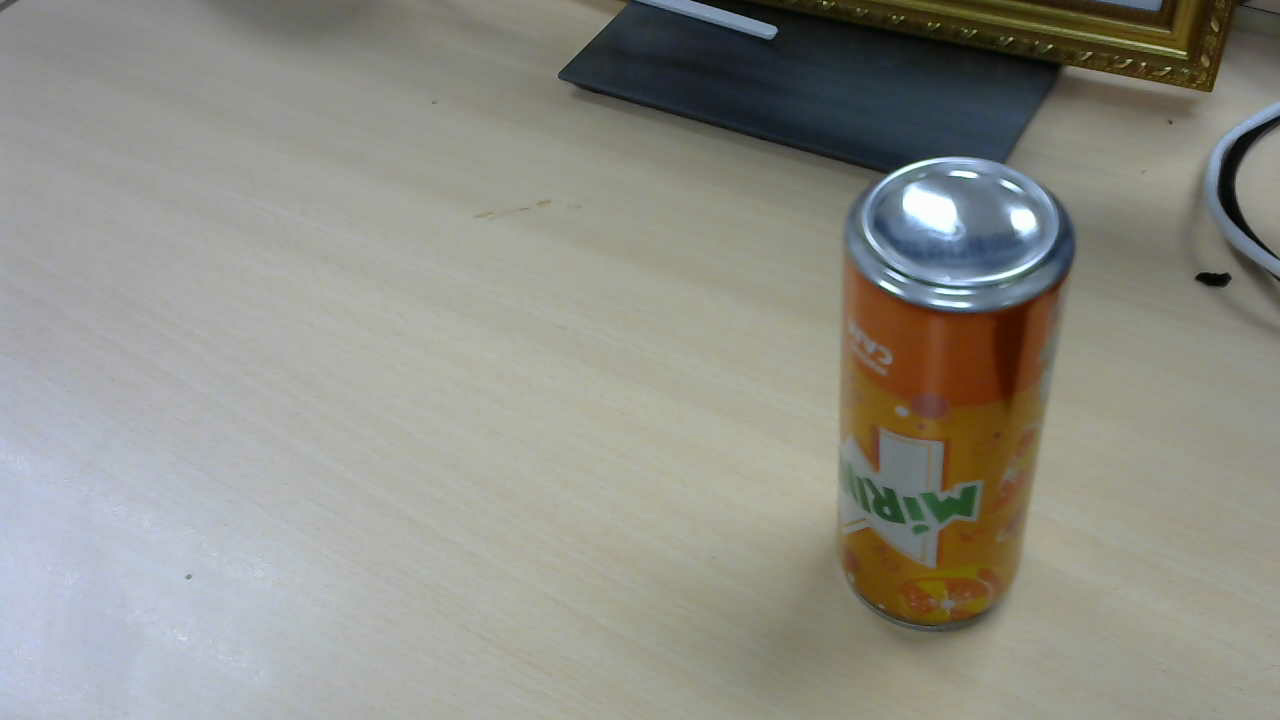Mirinda: (843, 156, 1086, 633)
